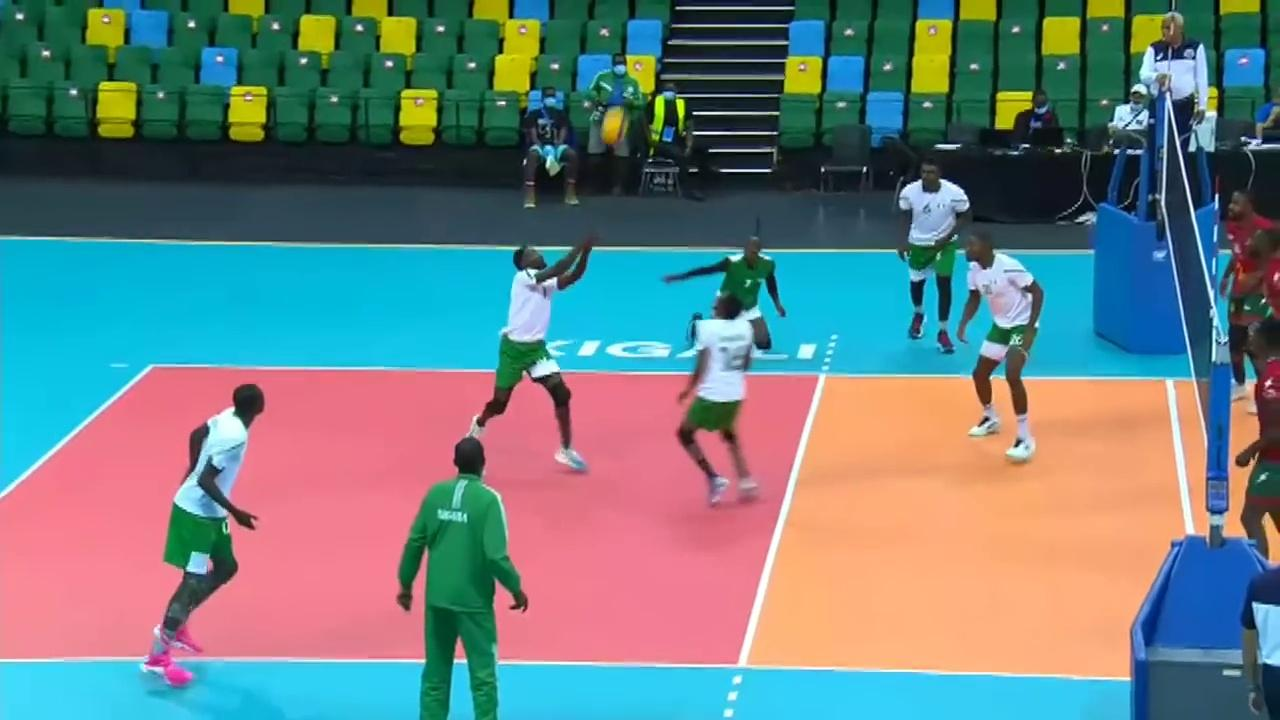player: (143, 384, 269, 685), (457, 227, 600, 475), (957, 228, 1044, 461), (674, 224, 796, 365), (682, 294, 760, 498), (895, 157, 973, 355), (1226, 187, 1280, 412), (1243, 318, 1280, 597), (1246, 226, 1280, 461)
refree: (1140, 10, 1206, 175)
